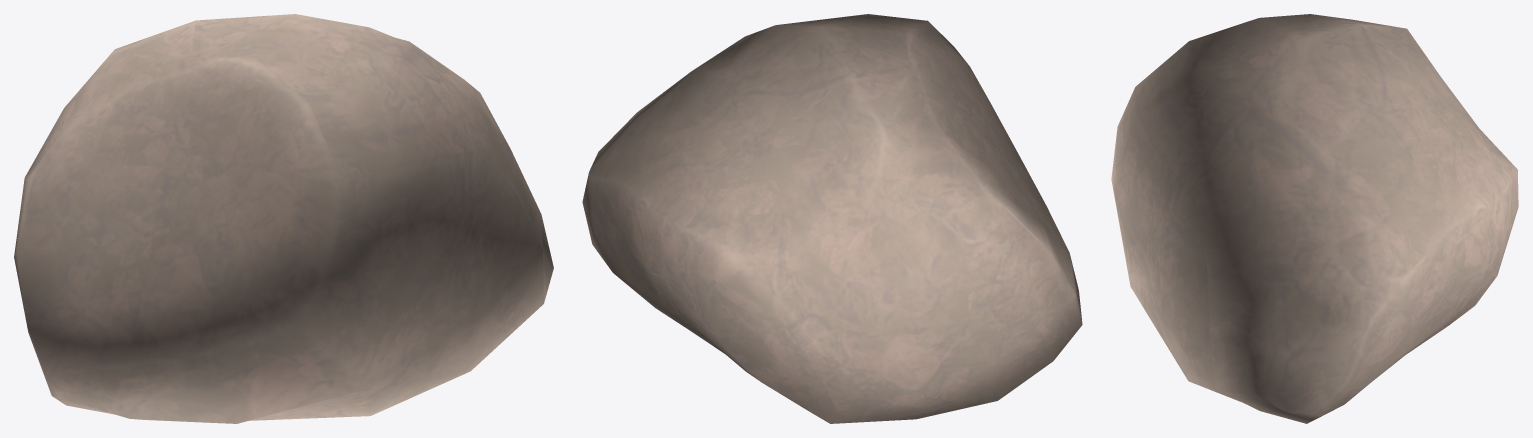
File: ROK0110042.fbx
3 views of the same model, side by side, from view 1: azimuth 30°, elevation 25°; view 2: azimuth 150°, elevation 25°; view 3: azimuth 270°, elevation 25° (orthographic). The views are drawn at different scales.
Visible parts, largest first — view 1: smROK0110042; view 2: smROK0110042; view 3: smROK0110042.
Part boxes in pixels (left/top/right/bottom): smROK0110042: left=14, top=14, right=553, bottom=423; smROK0110042: left=582, top=14, right=1082, bottom=423; smROK0110042: left=1111, top=14, right=1518, bottom=423.
Bounding box in the file's own units: 262 × 185 × 205.
1 material, 1 textured.
